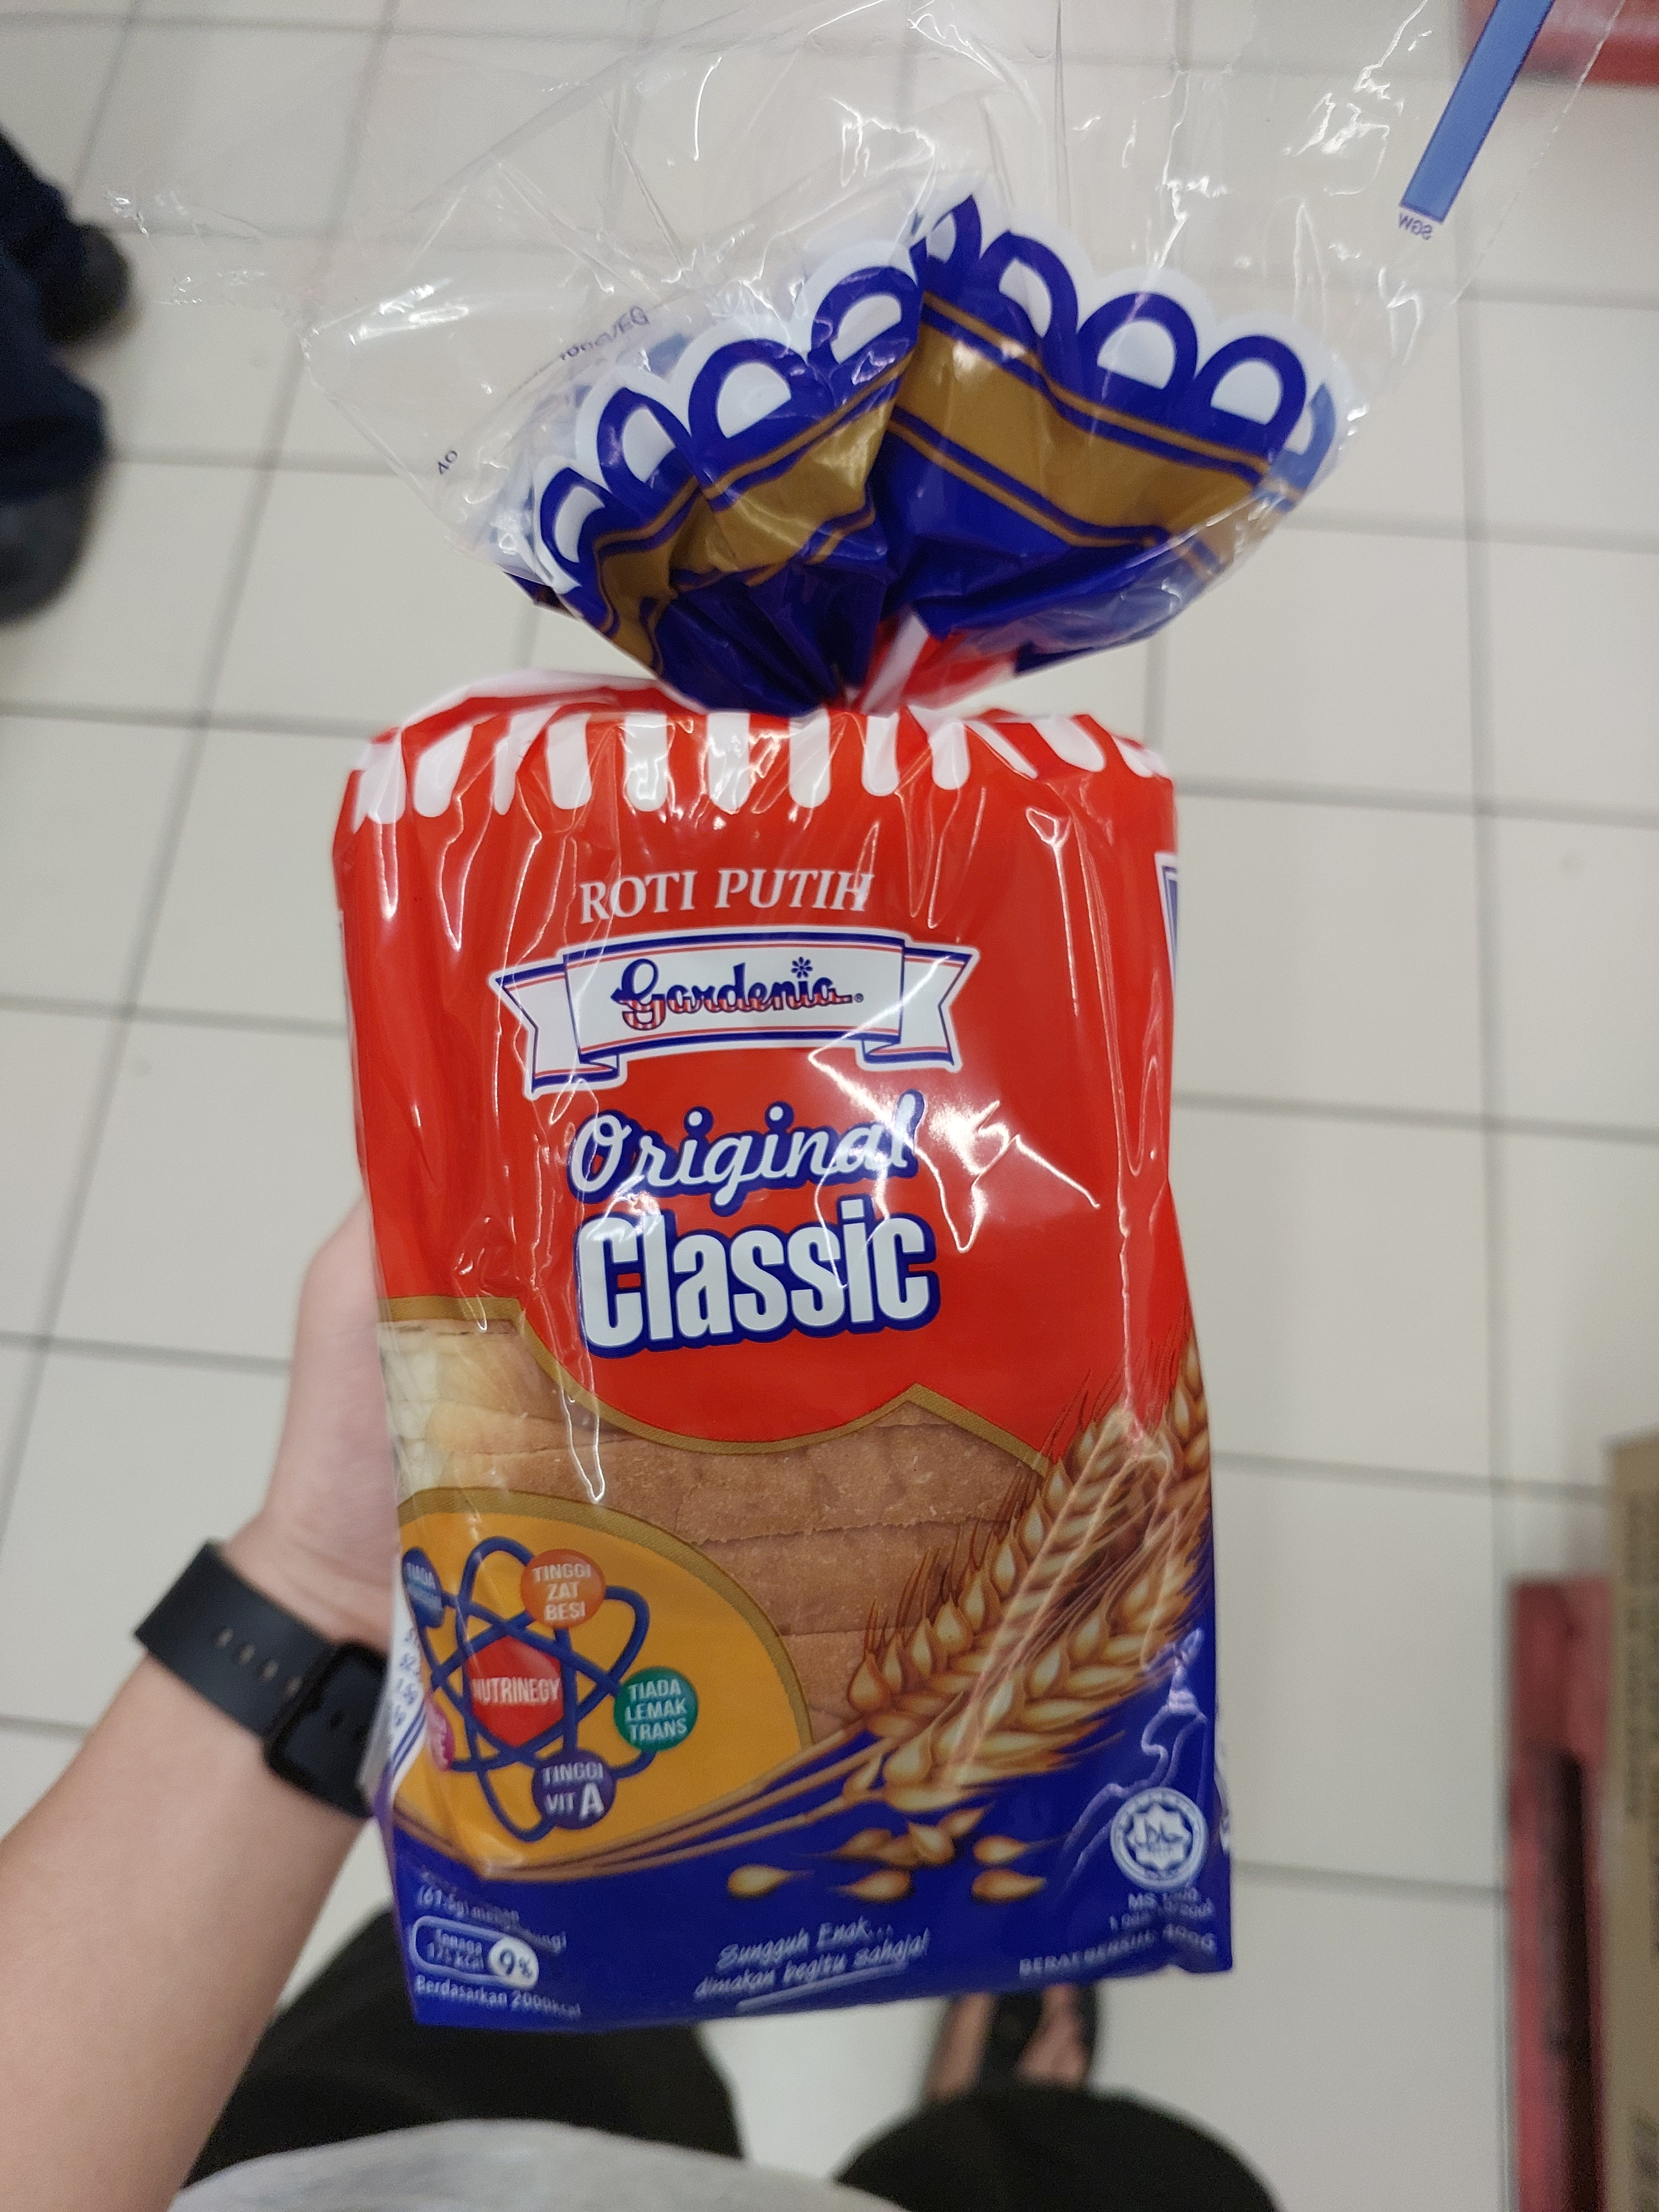bread: (331, 197, 1331, 2036)
